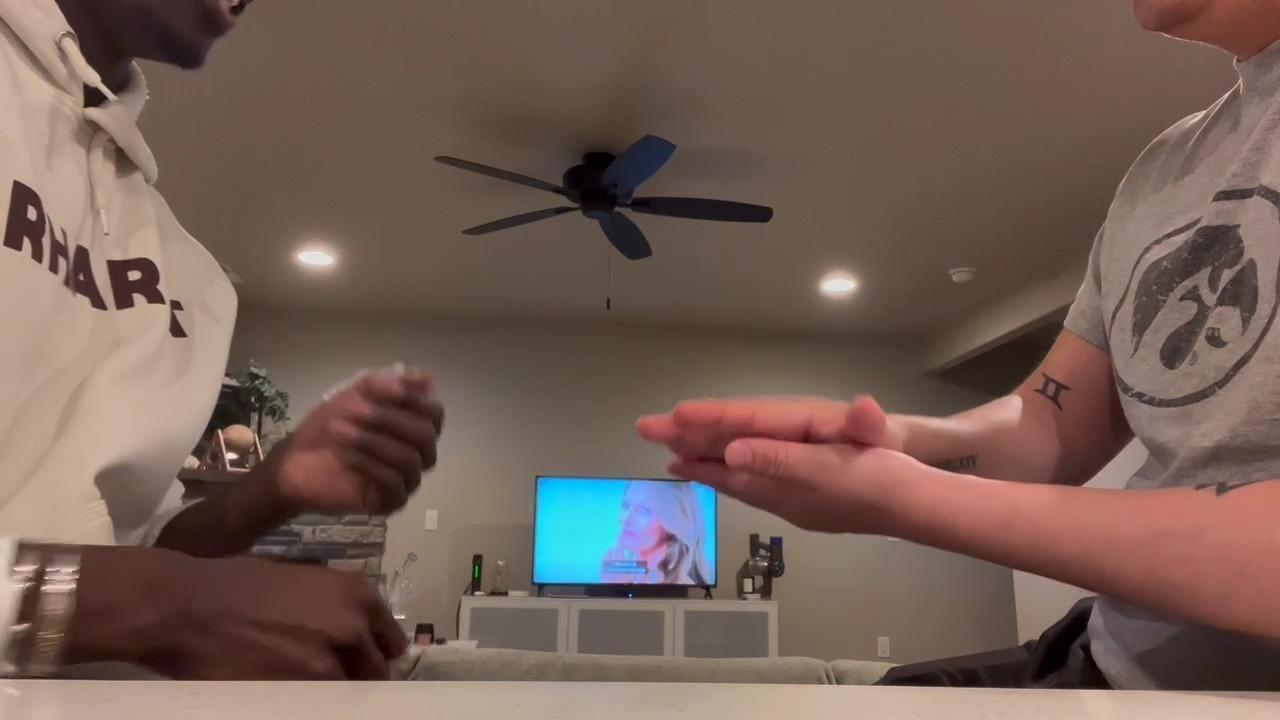Paper: (638, 387, 907, 466)
